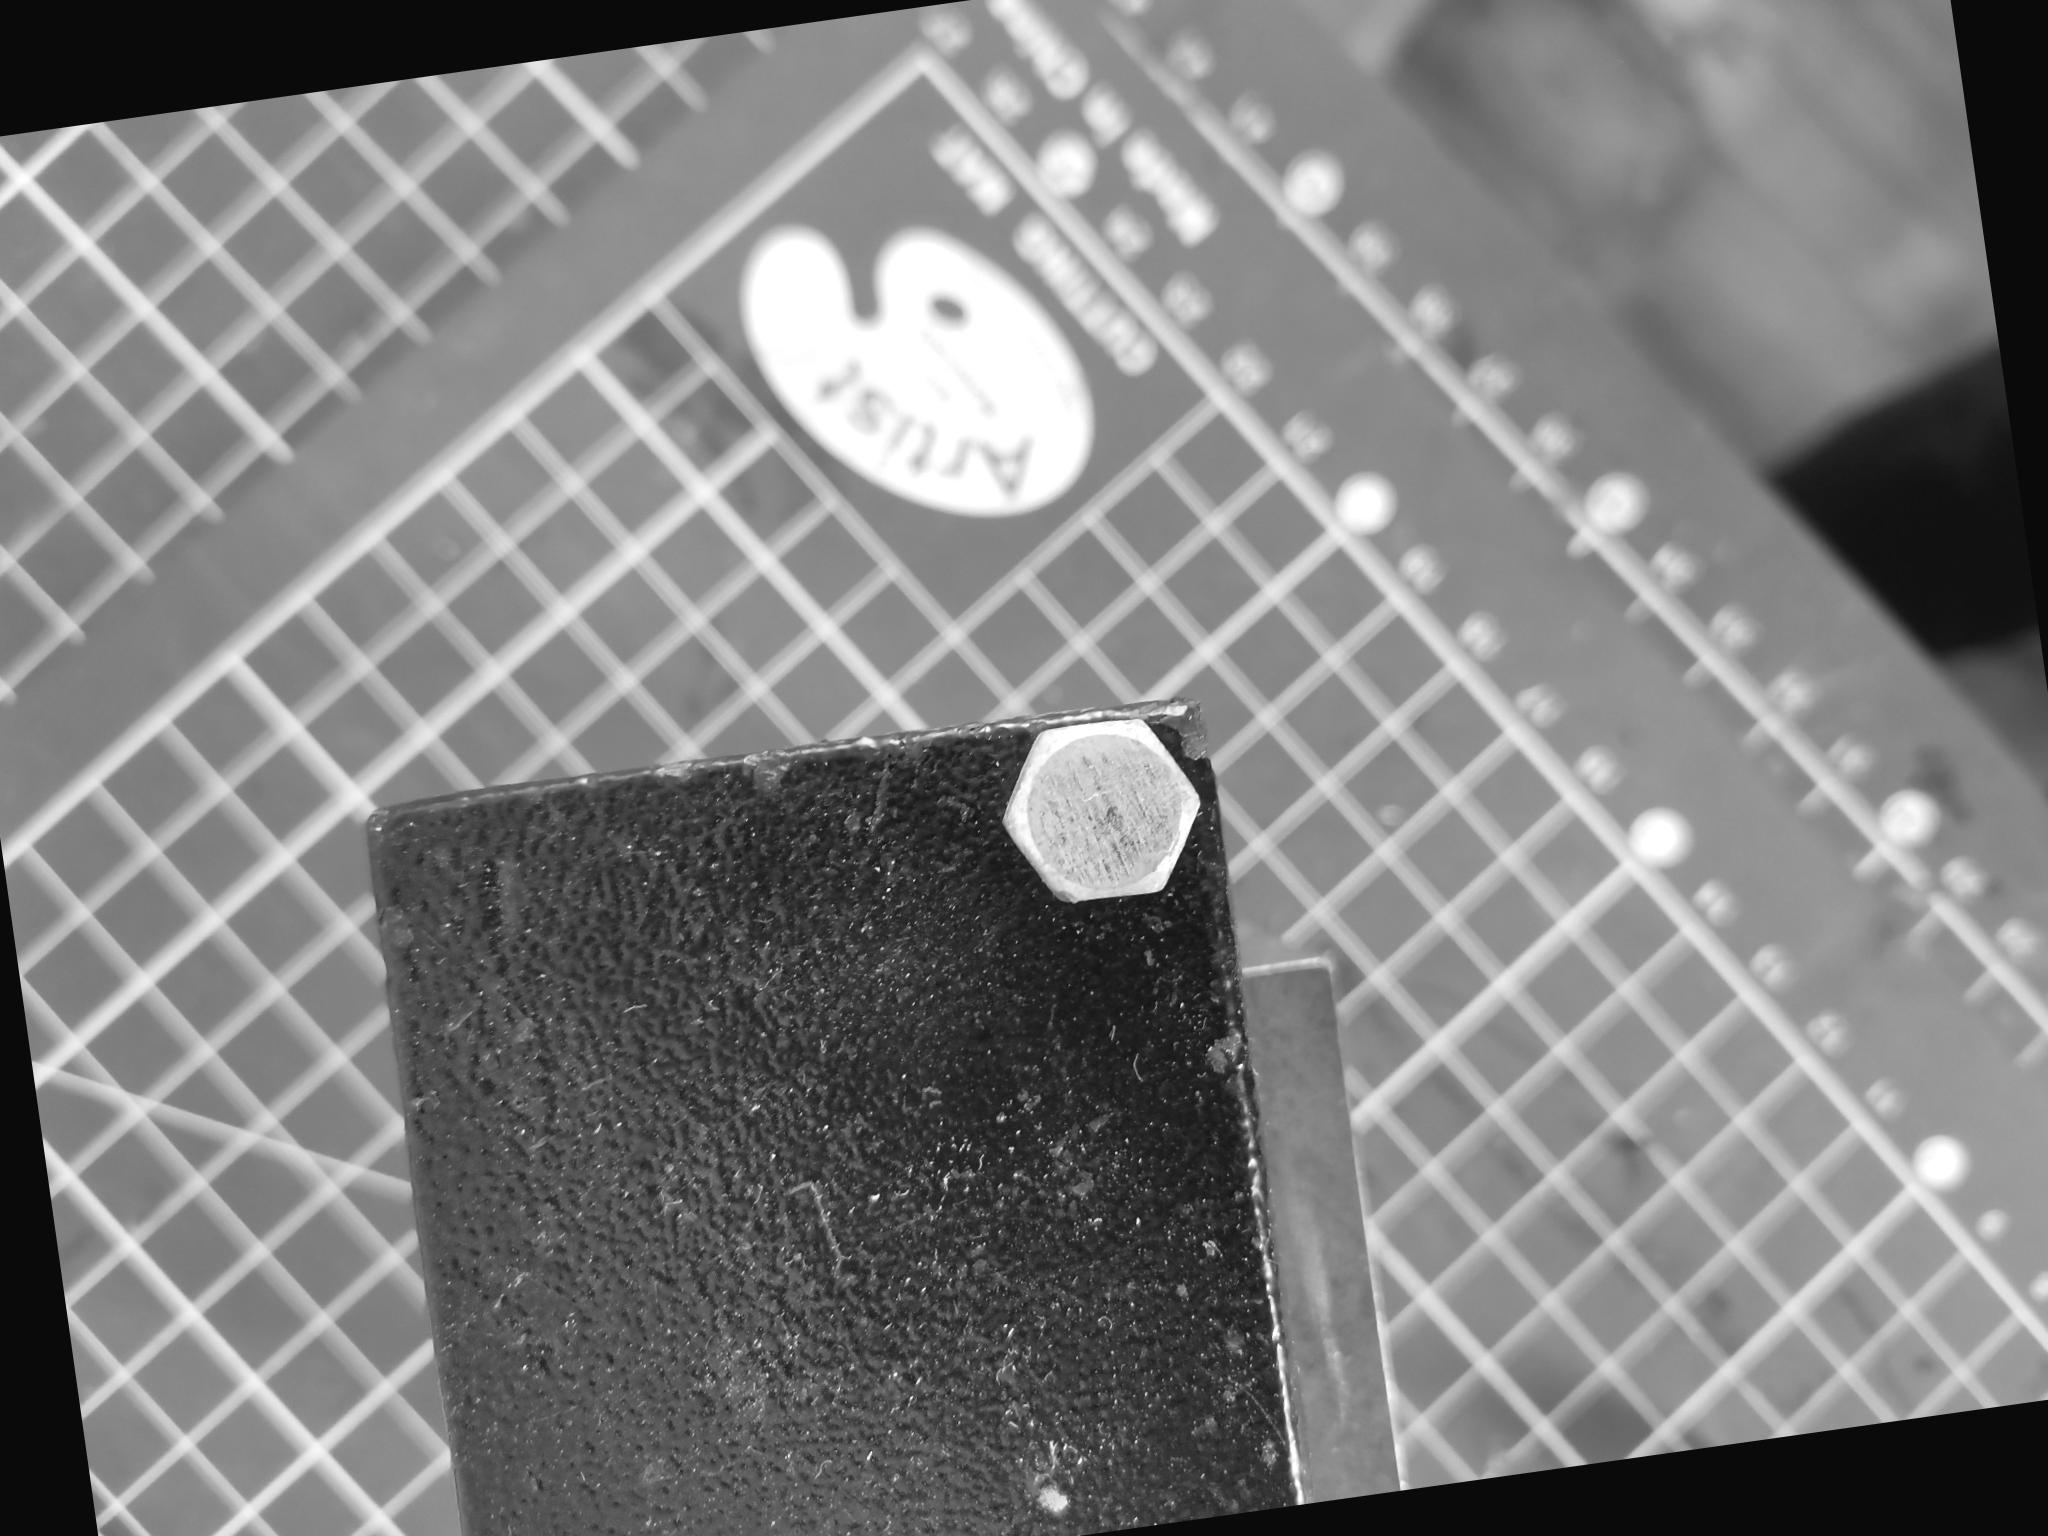hexagonal: (979, 697, 1221, 931)
